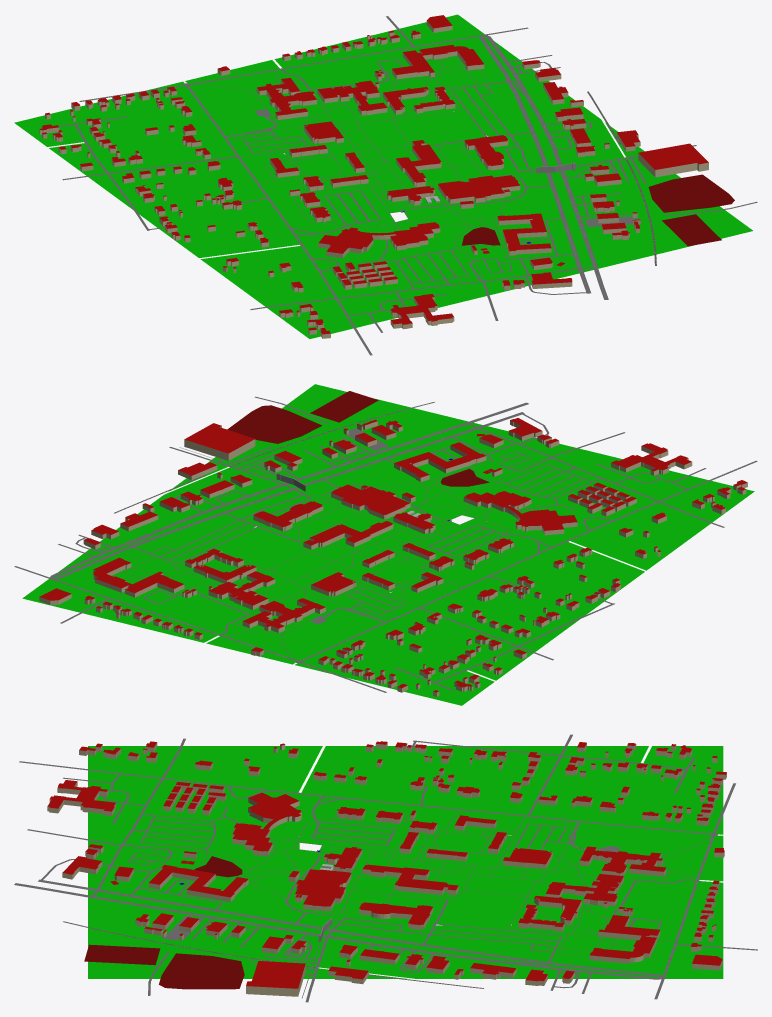
3 renders of one model, top to bottom at view 1: azimuth 30°, elevation 25°; view 2: azimuth 150°, elevation 25°; view 3: azimuth 270°, elevation 25°, orthographic. The views are drawn at different scales.
Visible parts, largest first — view 1: SurfaceArea1251, SurfaceArea1252, SurfaceArea1250, SurfaceArea1253, SurfaceArea1255, SurfaceArea1254, SurfaceArea1257, SurfaceArea1258, SurfaceArea1256, SurfaceArea1186, Building Maggs Physical Activities Center, Building1208 (+13 smaller); view 2: SurfaceArea1251, SurfaceArea1252, SurfaceArea1250, SurfaceArea1253, SurfaceArea1255, SurfaceArea1254, SurfaceArea1257, SurfaceArea1258, SurfaceArea1256, SurfaceArea1186, Building1087, Building1208 (+15 smaller); view 3: SurfaceArea1251, SurfaceArea1252, SurfaceArea1250, SurfaceArea1253, SurfaceArea1255, SurfaceArea1254, SurfaceArea1258, SurfaceArea1257, SurfaceArea1256, SurfaceArea1186, Building1087, Building1208 (+19 smaller).
Boxes of the visible parts, x1,y1,x2,y2 form: SurfaceArea1251: (113,153,381,266); SurfaceArea1252: (14,81,282,194); SurfaceArea1250: (211,225,479,338); SurfaceArea1253: (382,184,650,297); SurfaceArea1255: (185,39,453,153); SurfaceArea1254: (285,112,549,224); SurfaceArea1257: (454,89,644,183); SurfaceArea1258: (355,14,549,111); SurfaceArea1256: (554,162,752,255); SurfaceArea1186: (648,174,734,212); Building Maggs Physical Activities Center: (438,175,520,203); Building1208: (638,143,708,177); SurfaceArea1251: (391,521,656,634); SurfaceArea1252: (295,593,558,705); SurfaceArea1250: (488,450,754,562); SurfaceArea1253: (322,409,585,521); SurfaceArea1255: (124,552,389,664); SurfaceArea1254: (222,481,486,592); SurfaceArea1257: (132,457,316,551); SurfaceArea1258: (22,527,211,623); SurfaceArea1256: (232,384,415,479); SurfaceArea1186: (227,405,322,443); Building1087: (93,557,184,597); Building1208: (184,423,255,460); SurfaceArea1251: (299,746,511,838); SurfaceArea1252: (511,746,723,835); SurfaceArea1250: (88,746,299,835); SurfaceArea1253: (88,835,299,925); SurfaceArea1255: (511,835,723,925); SurfaceArea1254: (299,835,511,925); SurfaceArea1258: (511,925,723,978); SurfaceArea1257: (299,925,511,978); SurfaceArea1256: (88,925,299,978); SurfaceArea1186: (159,953,244,989); Building1087: (589,915,660,963); Building1208: (246,961,305,996).
Size of the model in its own units: 8981 by 125 by 10536.
